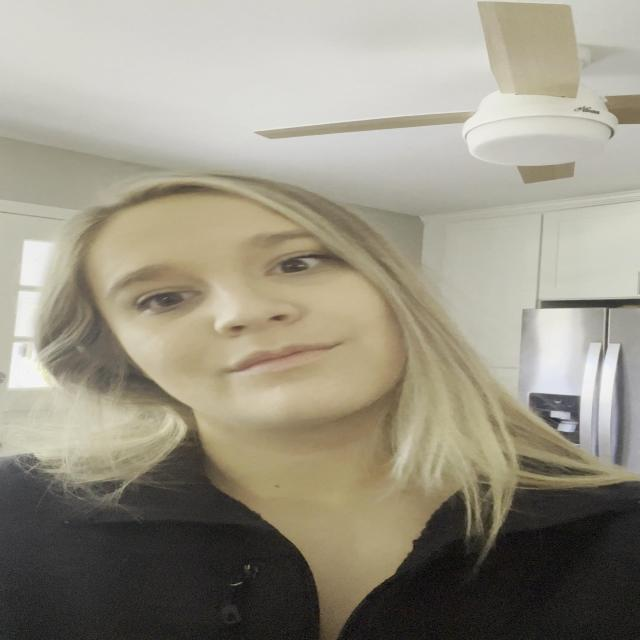no-helmet: (48, 181, 482, 462)
